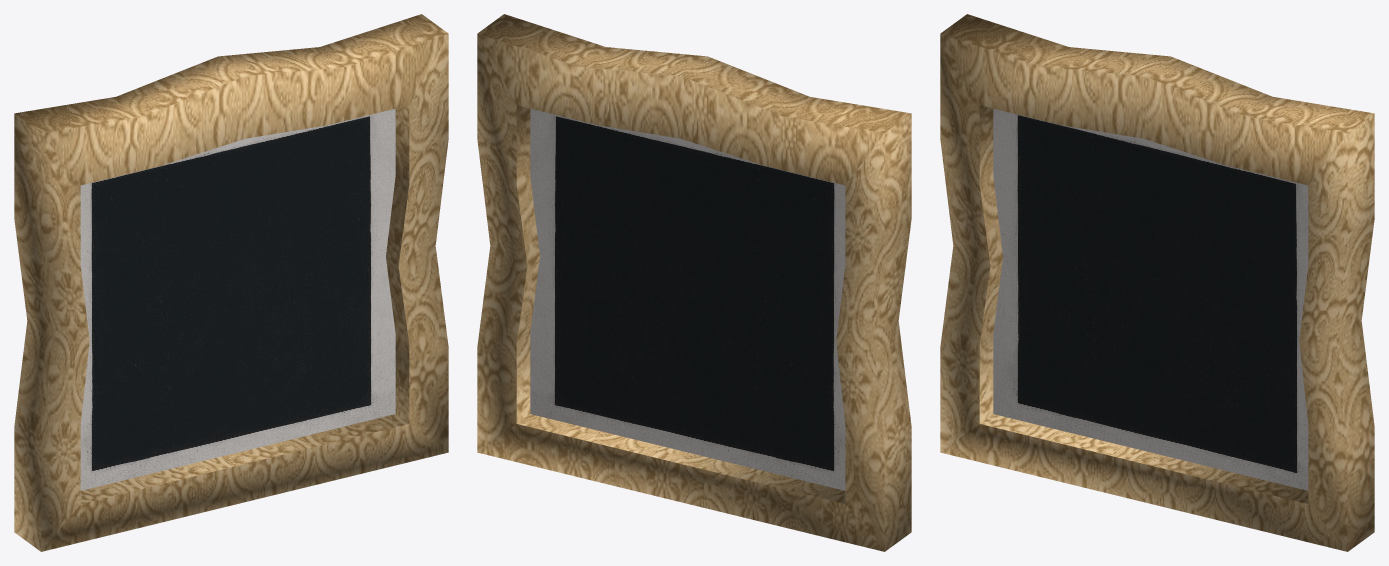
File: frame2.fbx
3 views of the same model, side by side, from view 1: azimuth 30°, elevation 25°; view 2: azimuth 150°, elevation 25°; view 3: azimuth 330°, elevation 25° (orthographic).
Visible parts, largest first — view 1: Plane, Cube; view 2: Plane, Cube; view 3: Plane, Cube.
Part boxes in pixels (x1,y1,x2,y2): Plane: (80,108,395,490); Cube: (14,14,448,551); Plane: (530,108,845,490); Cube: (477,14,911,551); Plane: (993,108,1308,490); Cube: (940,14,1374,551).
Size of the model in its own units: 217 by 217 by 24.84.
